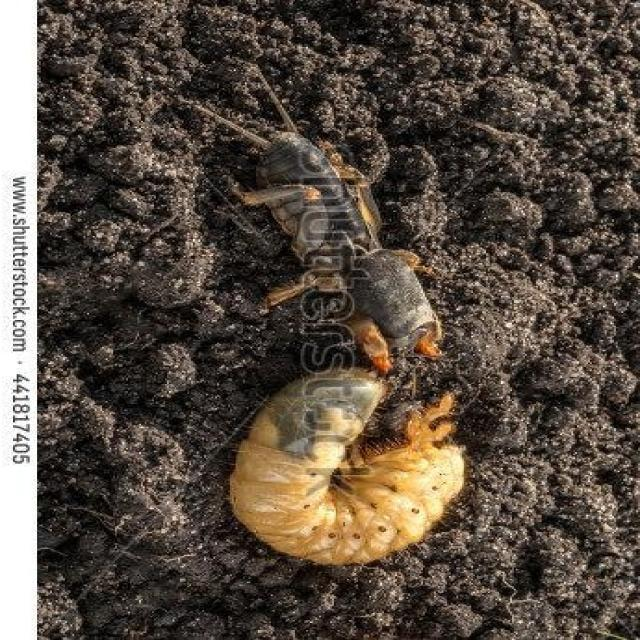grub: (238, 374, 459, 572)
